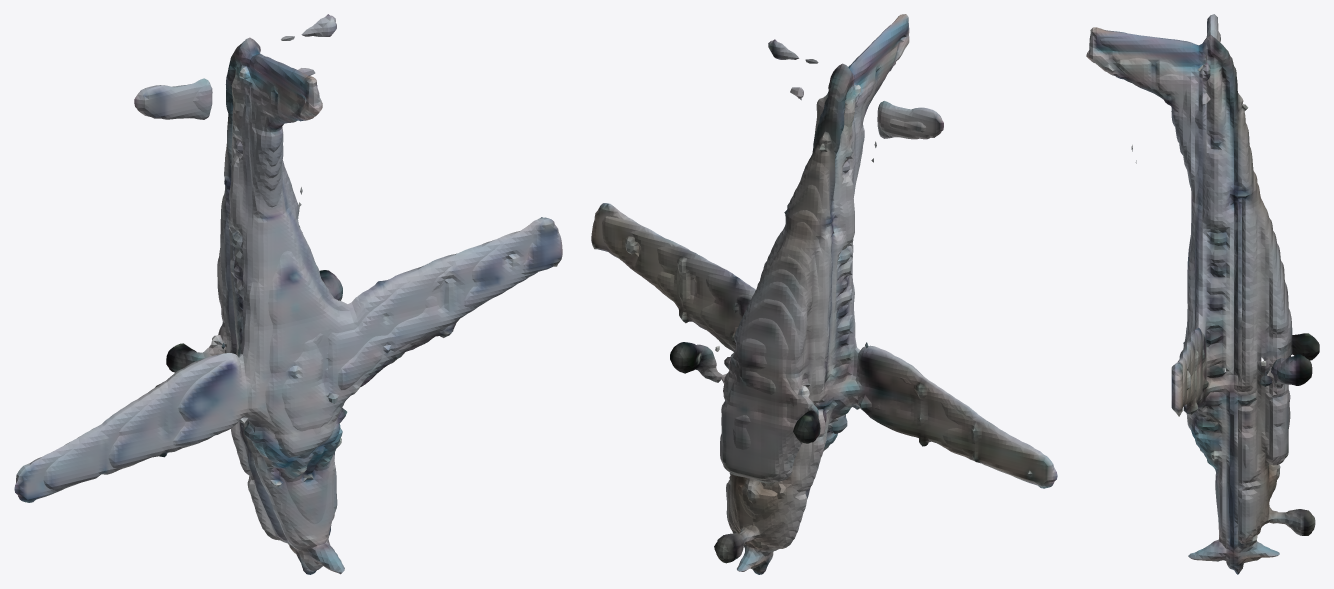
The model's file is 000002_plane_cessna caravan_flying.glb.
3 views of the same model, side by side, from view 1: azimuth 30°, elevation 25°; view 2: azimuth 150°, elevation 25°; view 3: azimuth 270°, elevation 25° (orthographic). The views are drawn at different scales.
Parts seen in each view (by area): view 1: world; view 2: world; view 3: world.
Part boxes in pixels (x1,y1,x2,y2): world: (14,14,562,574); world: (591,14,1057,574); world: (1086,14,1319,574).
Size of the model in its own units: 0.9475 by 0.9841 by 0.4071.
